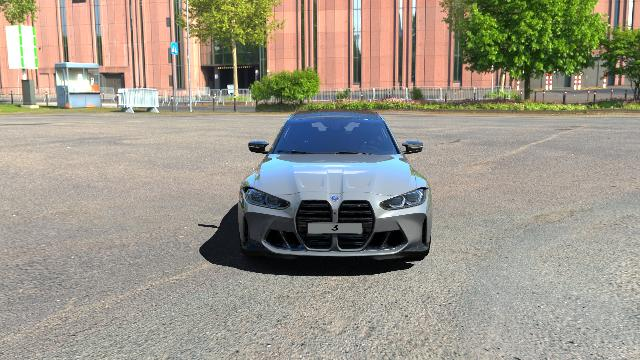License Plate: (309, 221, 363, 236)
